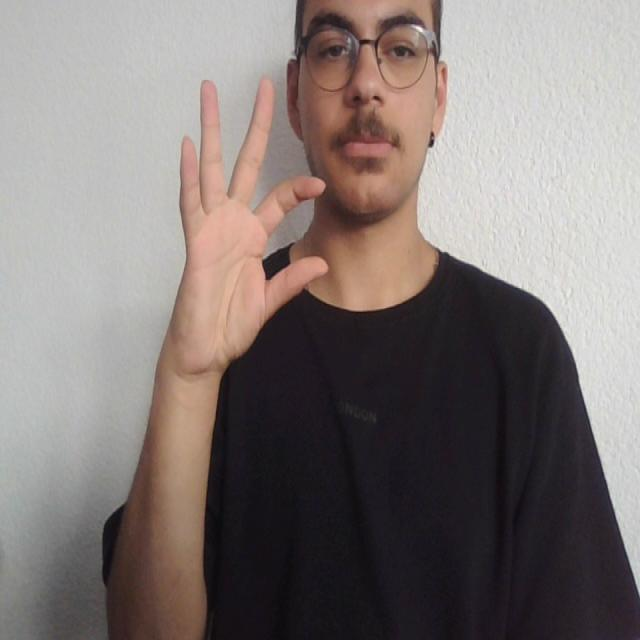Tuvalet: (156, 60, 332, 372)
